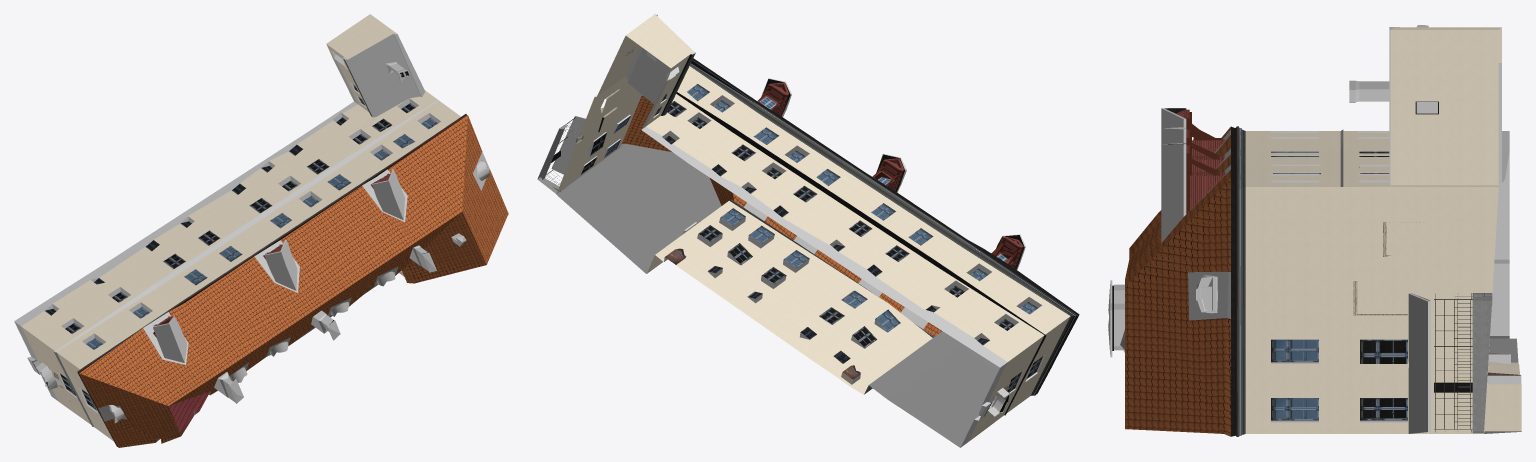
The model's file is Kooli_2-origo.obj.
The picture shows the model from 3 angles, left to right: view 1: azimuth 30°, elevation 25°; view 2: azimuth 150°, elevation 25°; view 3: azimuth 270°, elevation 25°; orthographic projection. The views are drawn at different scales.
Visible parts, largest first — view 1: Kooli_2; view 2: Kooli_2; view 3: Kooli_2.
Boxes of the visible parts, left/top/right/bottom form: Kooli_2: left=14, top=14, right=508, bottom=447; Kooli_2: left=537, top=14, right=1079, bottom=447; Kooli_2: left=1108, top=25, right=1521, bottom=436.
Size of the model in its own units: 47 by 31 by 18.91.
